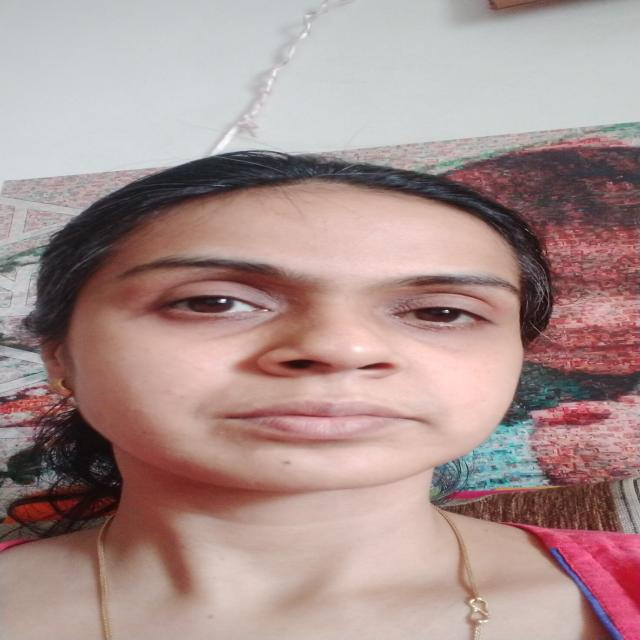eyebrow: (122, 257, 294, 277), (400, 274, 522, 300)
